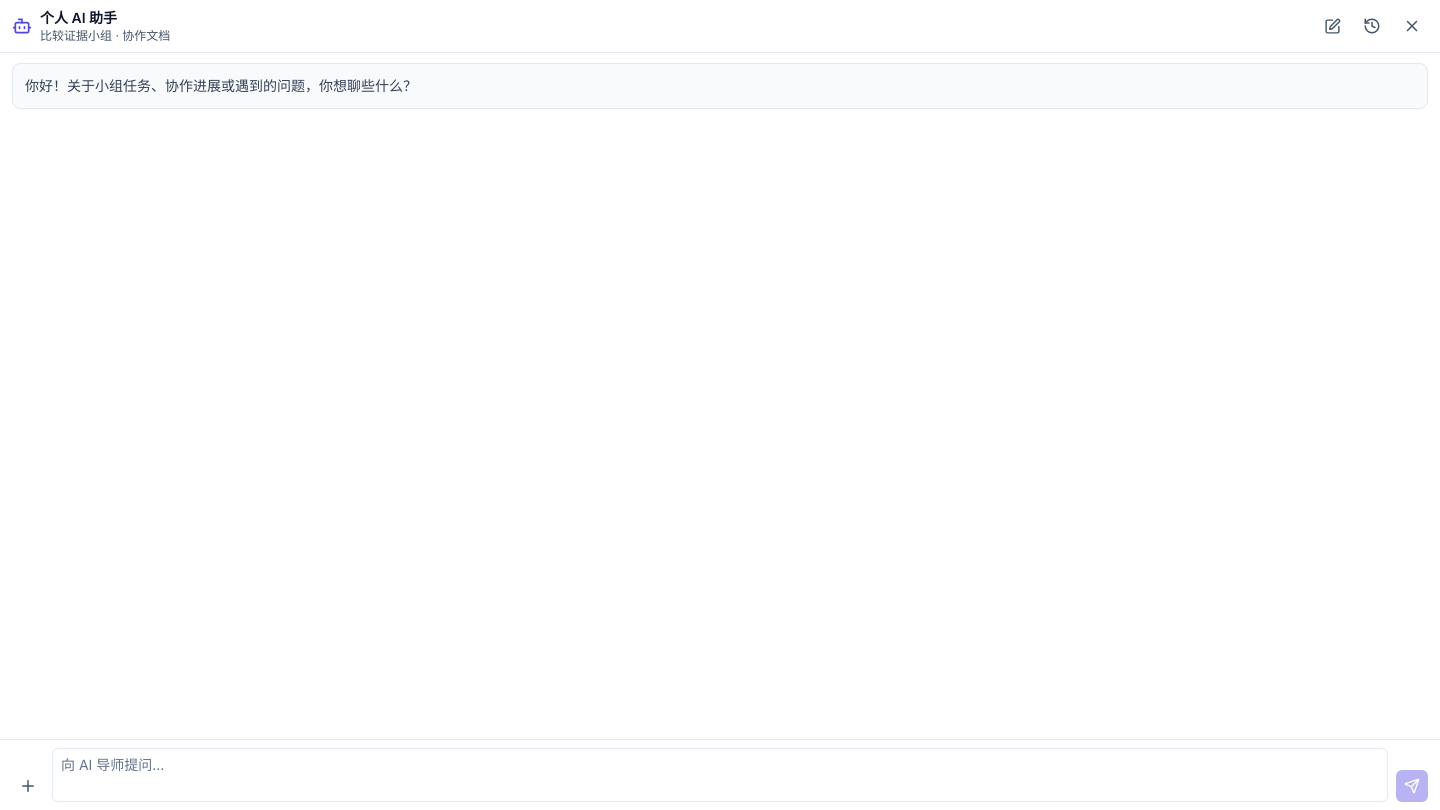
Test: keeps one conversation while sending fresh context for each tool
Later steps or results of the test are not shown.
Expected: the text "比较证据小组 · 协作文档" is shown, [40,28,170,43]
Type "我正在整理什么？" into the text box labelled "向 AI 导师提问". click: (720, 775)
box: [52,748,1388,802]
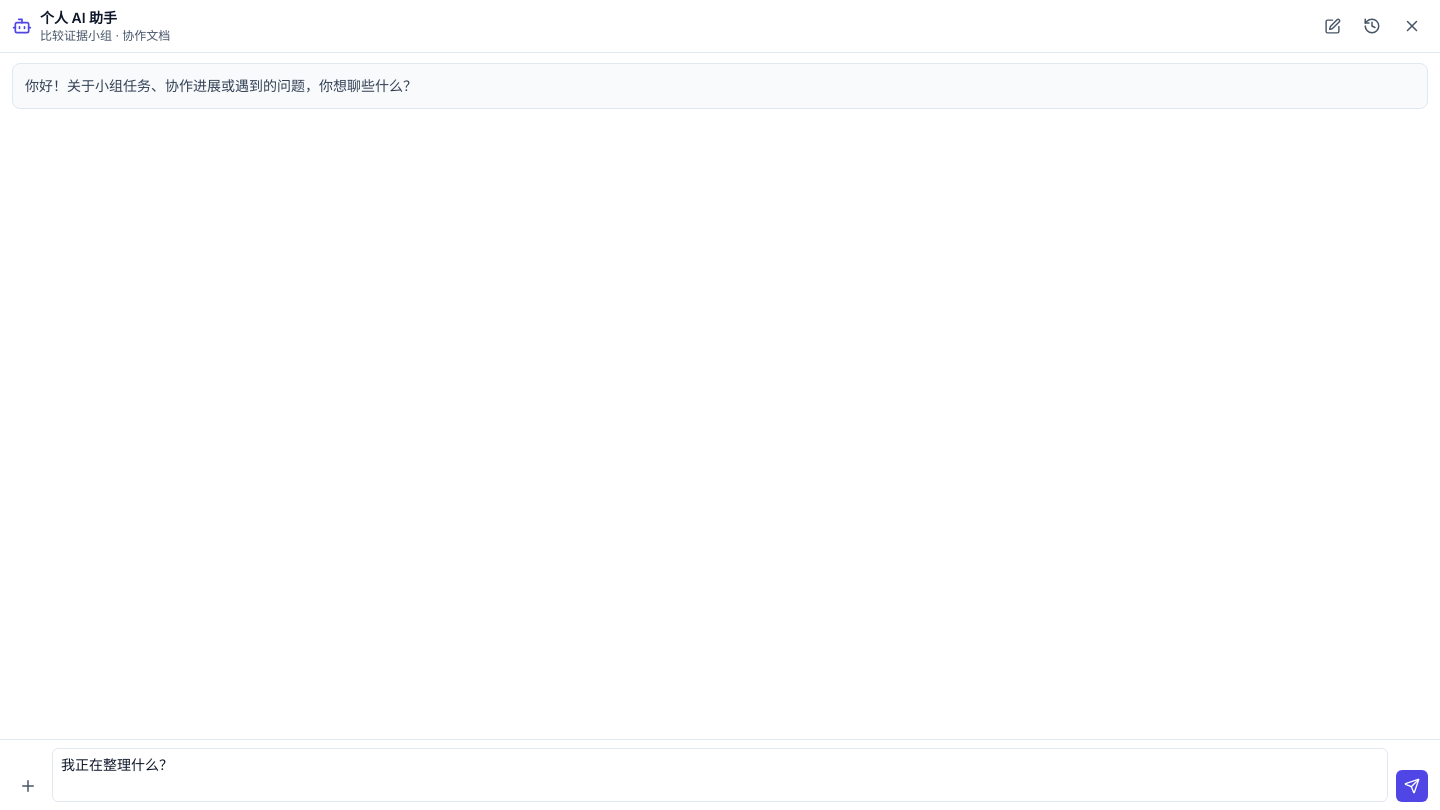
Click the button named "发送". click: (1412, 786)
box: [1396,770,1428,802]
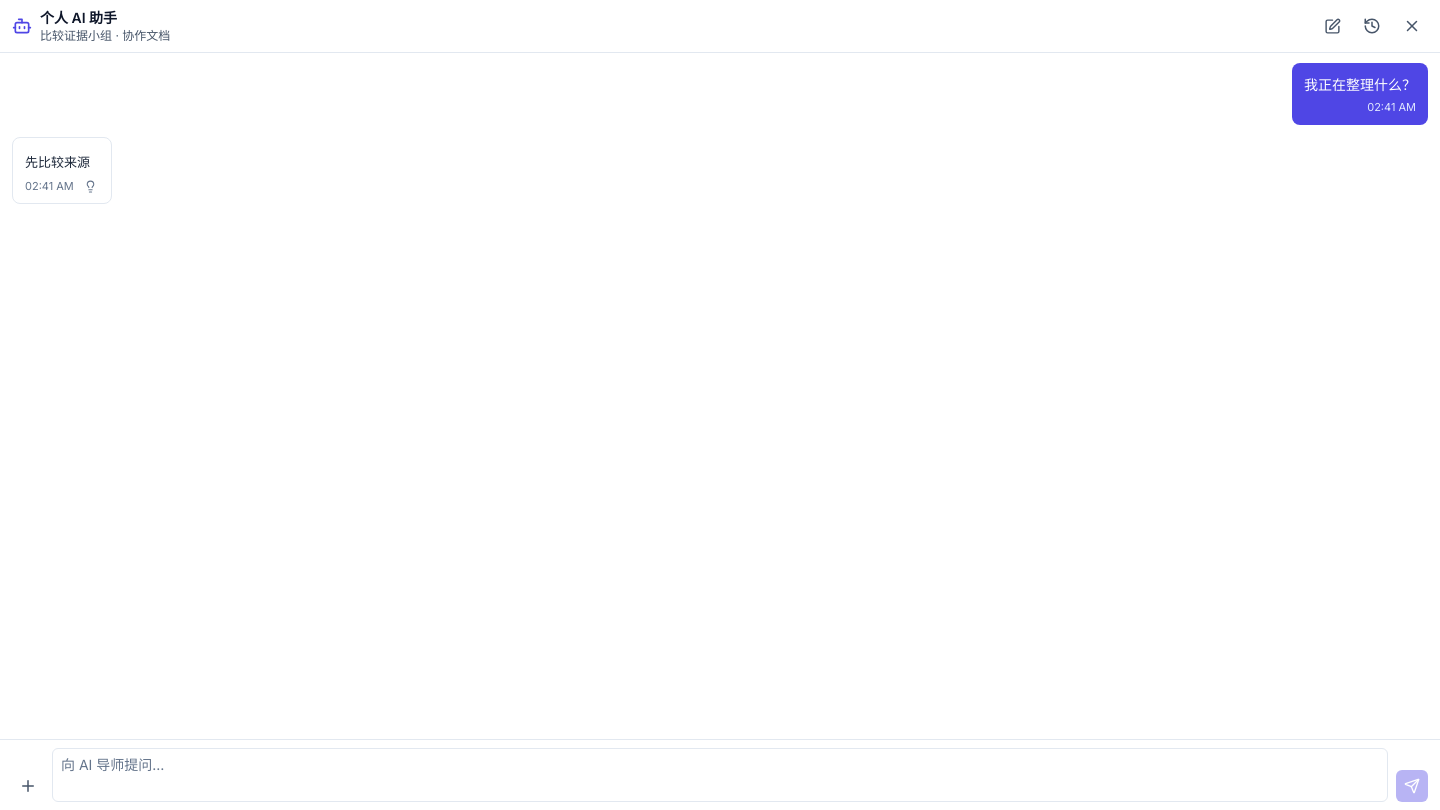
Expected: the text "先比较来源" is shown, [25,152,99,172]
